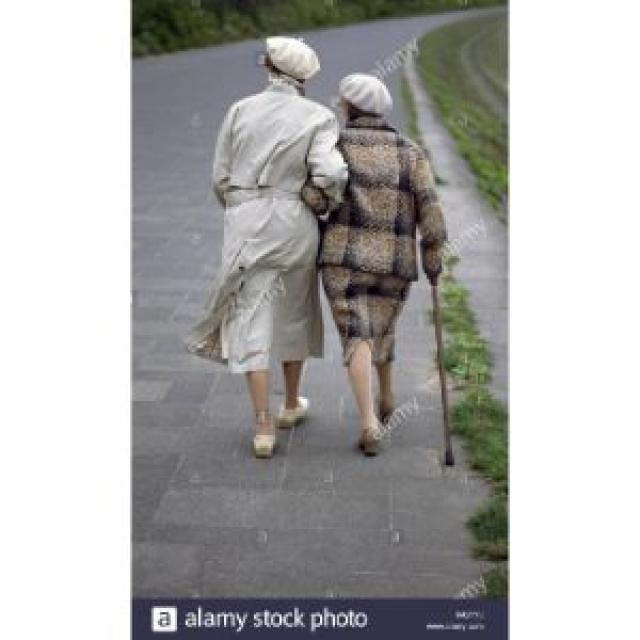nonfall: (337, 53, 452, 461), (220, 28, 320, 466)
